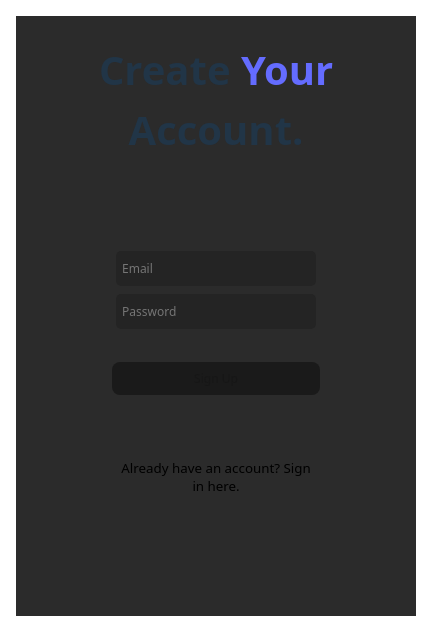
Test: Error message rendering › diplays email error when email is empty
The image size is (433, 633).
Click the field with test id "email-input".
click(216, 268)  # box left=116, top=251, right=316, bottom=286
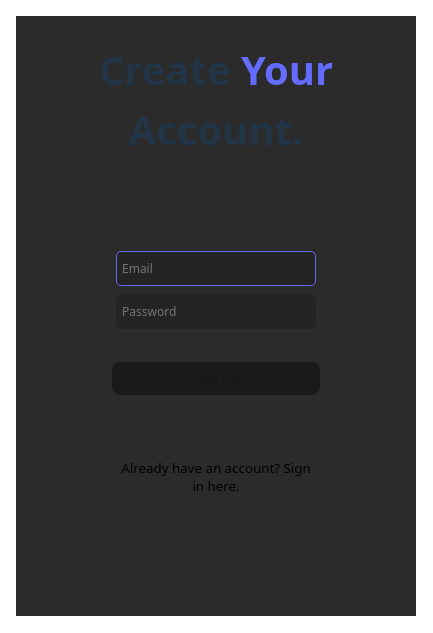
Press Tab
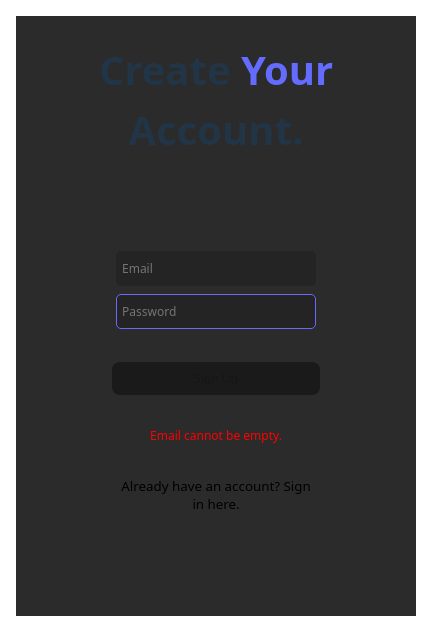
Expected: the text with test id "error-message" reads "Email cannot be empty.", left=150, top=427, right=282, bottom=444
